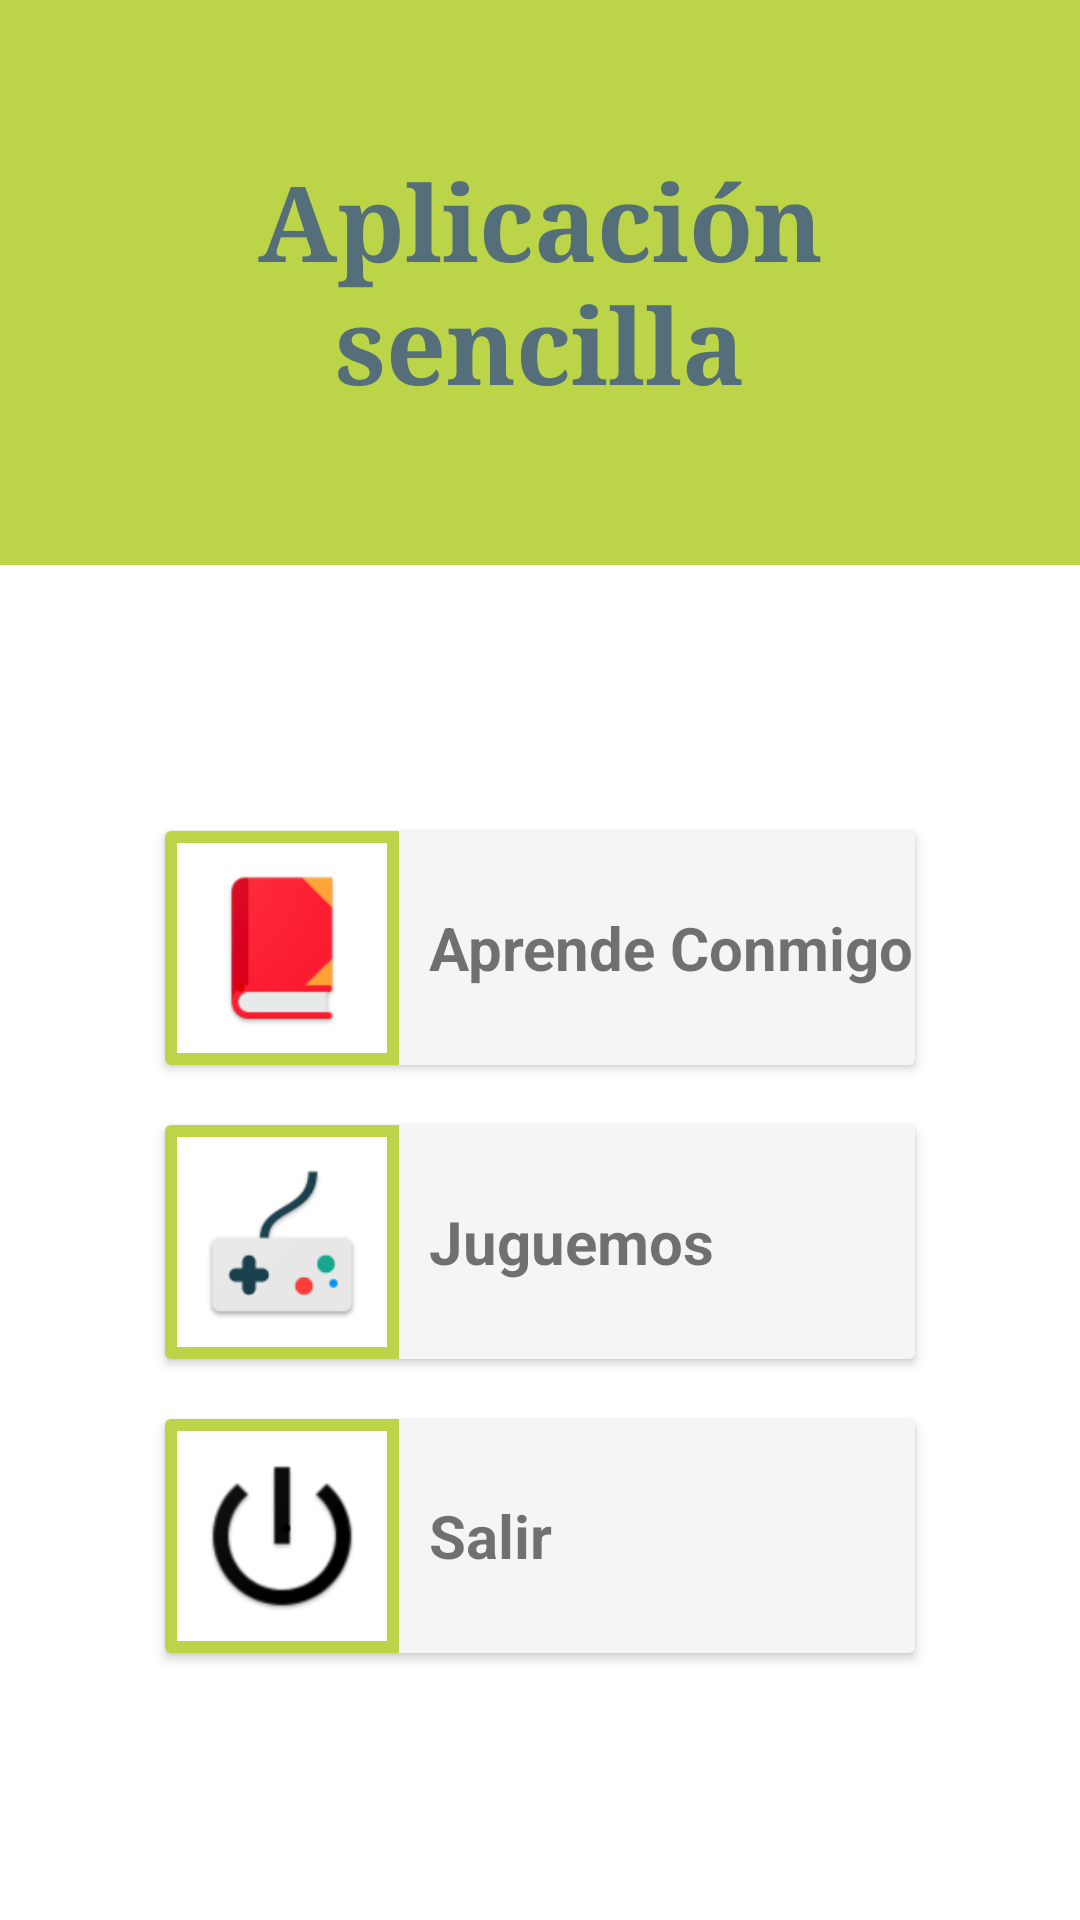

Screen size 1080px x 1920px. Icon name, then its center in pixels as [x,y]:
aprender: [282,948]
jugar: [282,1242]
